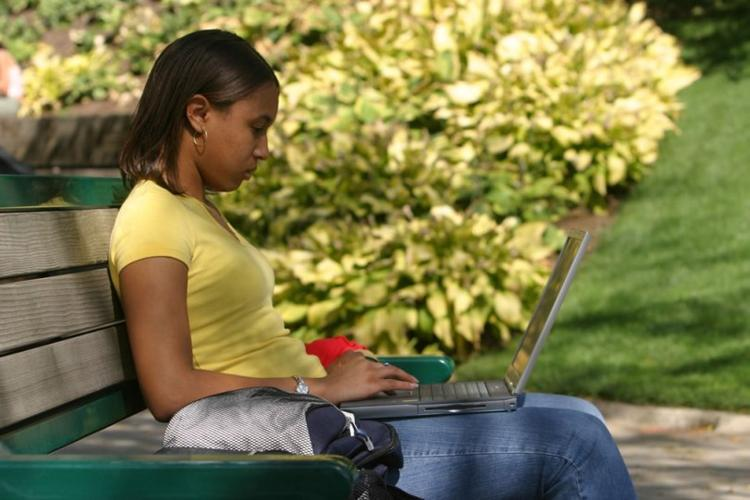person: (108, 28, 637, 500)
